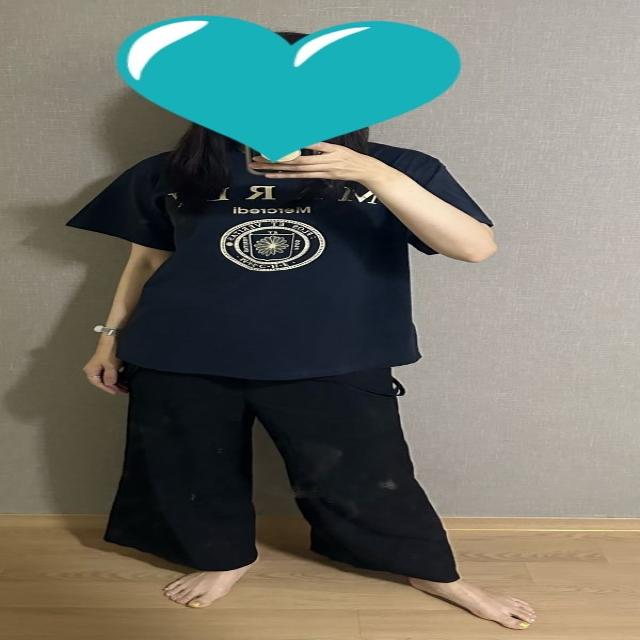shortsleeve: (70, 130, 495, 388)
slacks: (99, 362, 461, 580)
